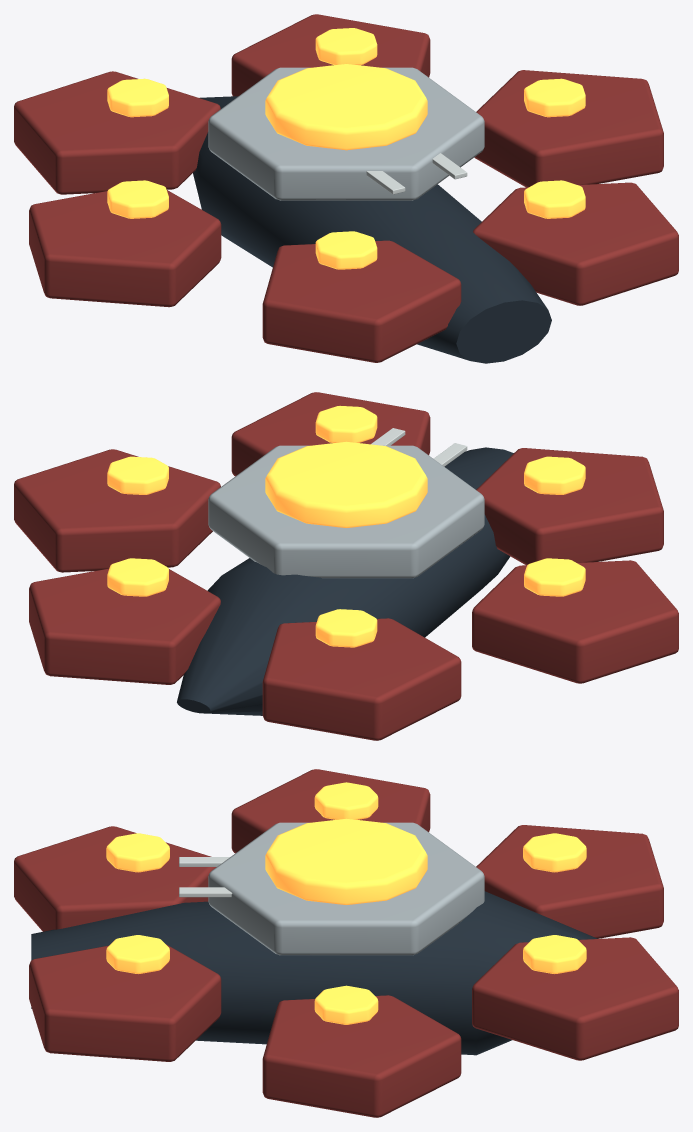
File: WardDrone.fbx
The picture shows the model from 3 angles, top to bottom: view 1: azimuth 30°, elevation 25°; view 2: azimuth 150°, elevation 25°; view 3: azimuth 270°, elevation 25°; orthographic projection.
Visible parts, largest first — view 1: Shield command spindle, Hexagonal field emitter, Segmented shield vane.004, Segmented shield vane.003, Segmented shield vane.002, Segmented shield vane.005, Segmented shield vane, Warm shield iris, Segmented shield vane.001, Shield coupling.004, Shield coupling.003, Shield coupling.002 (+3 smaller); view 2: Shield command spindle, Hexagonal field emitter, Segmented shield vane.002, Segmented shield vane.003, Segmented shield vane, Segmented shield vane.001, Segmented shield vane.004, Warm shield iris, Segmented shield vane.005, Shield coupling.002, Shield coupling.001, Shield coupling.003 (+3 smaller); view 3: Shield command spindle, Hexagonal field emitter, Segmented shield vane, Segmented shield vane.001, Segmented shield vane.005, Segmented shield vane.002, Segmented shield vane.004, Warm shield iris, Segmented shield vane.003, Shield coupling, Shield coupling.002, Shield coupling.004 (+4 smaller).
Part boxes in pixels (x1=…): Shield command spindle: x1=193, y1=96, x2=551, y2=363; Hexagonal field emitter: x1=208, y1=67, x2=484, y2=200; Segmented shield vane.004: x1=262, y1=240, x2=461, y2=362; Segmented shield vane.003: x1=29, y1=190, x2=221, y2=307; Segmented shield vane.002: x1=14, y1=71, x2=220, y2=194; Segmented shield vane.005: x1=473, y1=182, x2=678, y2=305; Segmented shield vane: x1=474, y1=70, x2=663, y2=187; Warm shield iris: x1=265, y1=63, x2=427, y2=150; Segmented shield vane.001: x1=231, y1=14, x2=430, y2=96; Shield coupling.004: x1=315, y1=231, x2=377, y2=269; Shield coupling.003: x1=107, y1=180, x2=168, y2=218; Shield coupling.002: x1=107, y1=78, x2=168, y2=117; Shield command spindle: x1=177, y1=447, x2=513, y2=715; Hexagonal field emitter: x1=208, y1=445, x2=484, y2=578; Segmented shield vane.002: x1=262, y1=618, x2=461, y2=740; Segmented shield vane.003: x1=472, y1=560, x2=678, y2=683; Segmented shield vane: x1=14, y1=449, x2=220, y2=572; Segmented shield vane.001: x1=29, y1=568, x2=220, y2=684; Segmented shield vane.004: x1=476, y1=448, x2=663, y2=565; Warm shield iris: x1=265, y1=441, x2=427, y2=527; Segmented shield vane.005: x1=231, y1=392, x2=430, y2=476; Shield coupling.002: x1=315, y1=609, x2=377, y2=647; Shield coupling.001: x1=107, y1=558, x2=168, y2=596; Shield coupling.003: x1=524, y1=558, x2=585, y2=596; Shield command spindle: x1=31, y1=891, x2=597, y2=1055; Hexagonal field emitter: x1=208, y1=822, x2=484, y2=955; Segmented shield vane: x1=262, y1=995, x2=461, y2=1117; Segmented shield vane.001: x1=472, y1=937, x2=678, y2=1060; Segmented shield vane.005: x1=29, y1=944, x2=221, y2=1061; Segmented shield vane.002: x1=476, y1=825, x2=663, y2=938; Segmented shield vane.004: x1=14, y1=826, x2=216, y2=931; Warm shield iris: x1=265, y1=818, x2=427, y2=904; Segmented shield vane.003: x1=231, y1=769, x2=430, y2=853; Shield coupling: x1=314, y1=985, x2=378, y2=1024; Shield coupling.002: x1=523, y1=833, x2=586, y2=872; Shield coupling.004: x1=106, y1=833, x2=169, y2=872.
Bounding box in the file's own units: 225 × 66 × 205.
